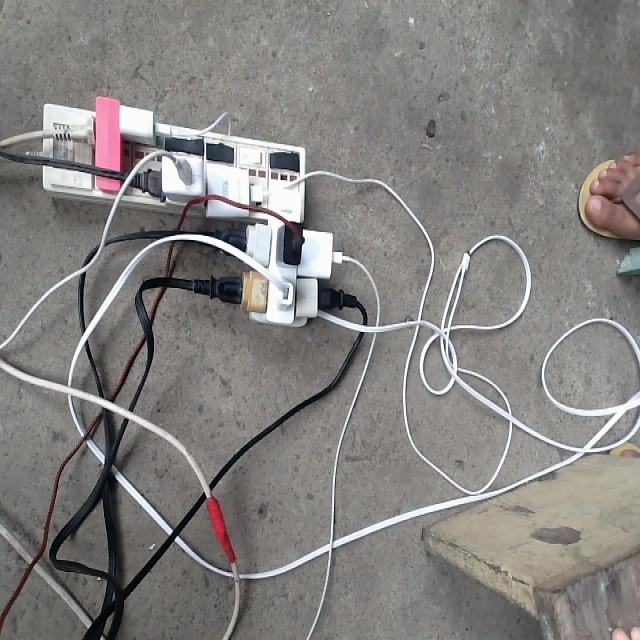-: (36, 97, 343, 324)
